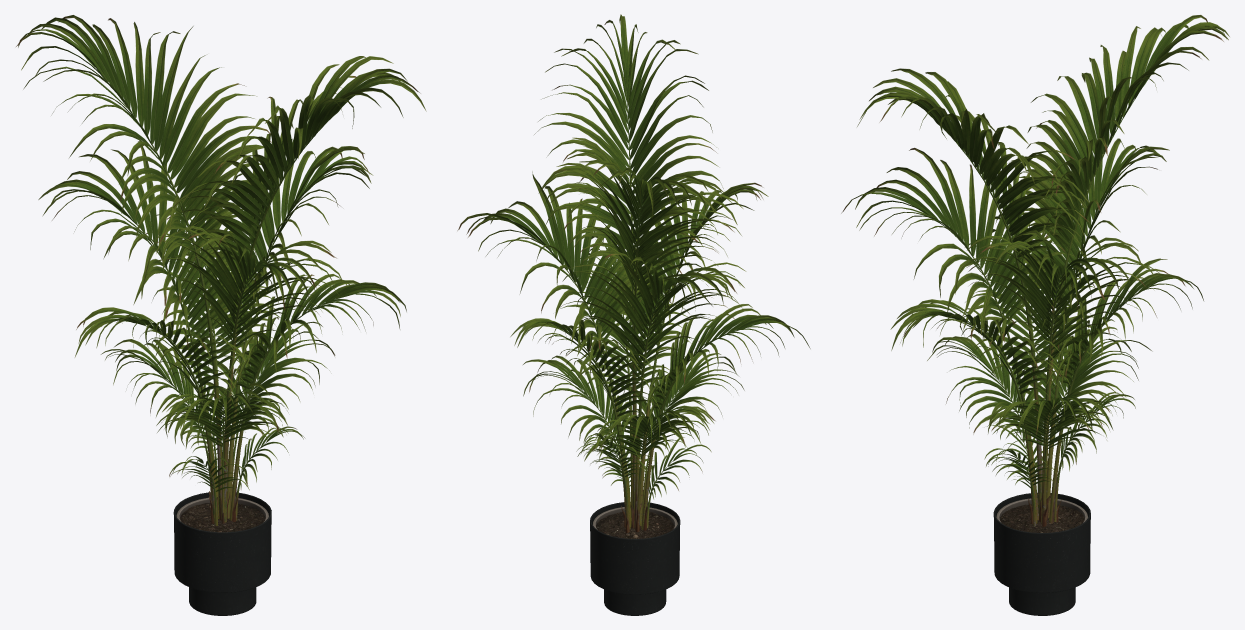
The model's file is palma.glb.
3 views of the same model, side by side, from view 1: azimuth 30°, elevation 25°; view 2: azimuth 150°, elevation 25°; view 3: azimuth 270°, elevation 25° (orthographic). The views are drawn at different scales.
Bounding box in the file's own units: 1.14 × 1.79 × 1.15.
2 materials, 2 textured.
